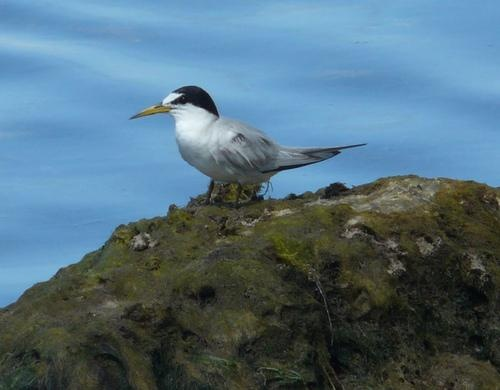bird: (126, 85, 369, 214)
